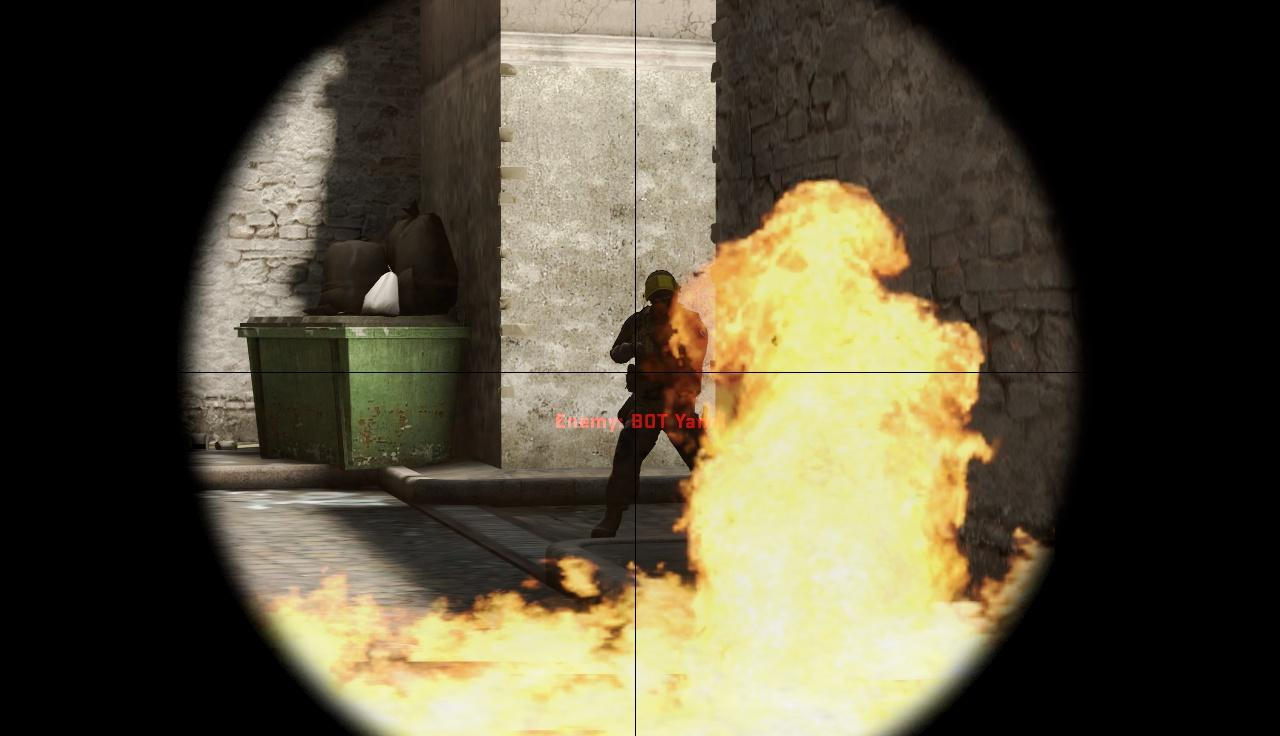ct: (616, 270, 707, 535)
cthead: (644, 271, 679, 313)
